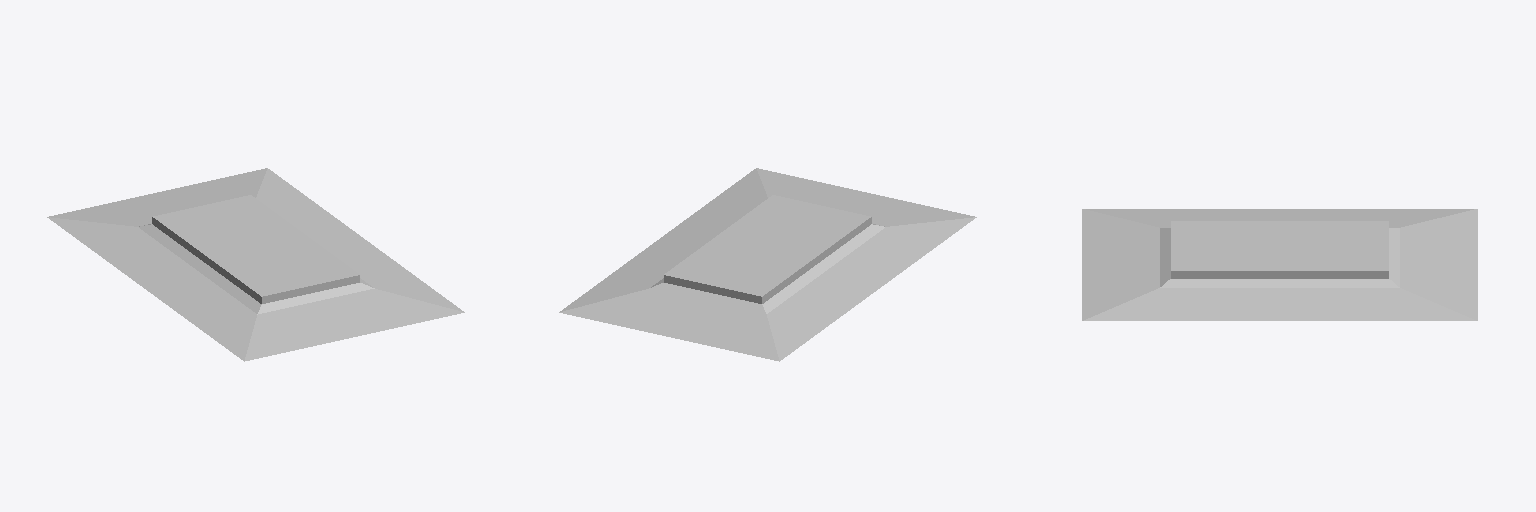
Rendered from ArtGallery_Roof.obj.
3 renders of one model, left to right at view 1: azimuth 30°, elevation 25°; view 2: azimuth 150°, elevation 25°; view 3: azimuth 270°, elevation 25°, orthographic.
Parts seen in each view (by area): view 1: MuseumGalleryMesh4; view 2: MuseumGalleryMesh4; view 3: MuseumGalleryMesh4.
Boxes of the visible parts, x1=… form: MuseumGalleryMesh4: x1=47, y1=168, x2=464, y2=361; MuseumGalleryMesh4: x1=559, y1=168, x2=976, y2=361; MuseumGalleryMesh4: x1=1082, y1=209, x2=1477, y2=320.
Size of the model in its own units: 115 by 11.16 by 178.